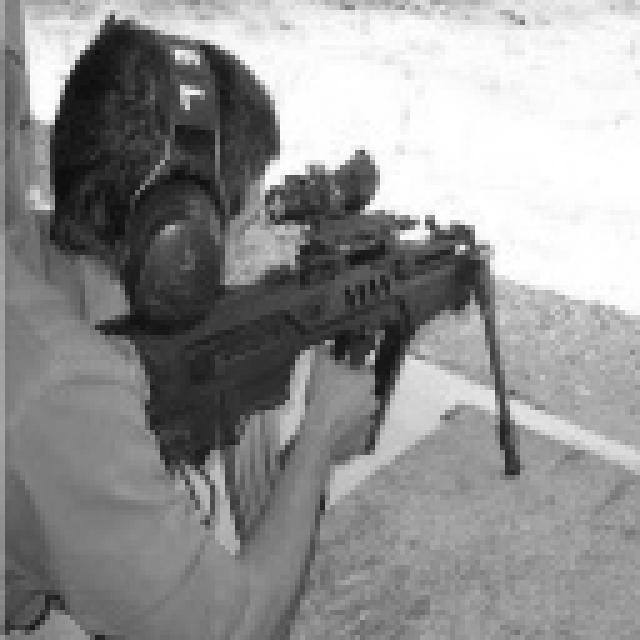Rifle: (128, 125, 559, 495)
